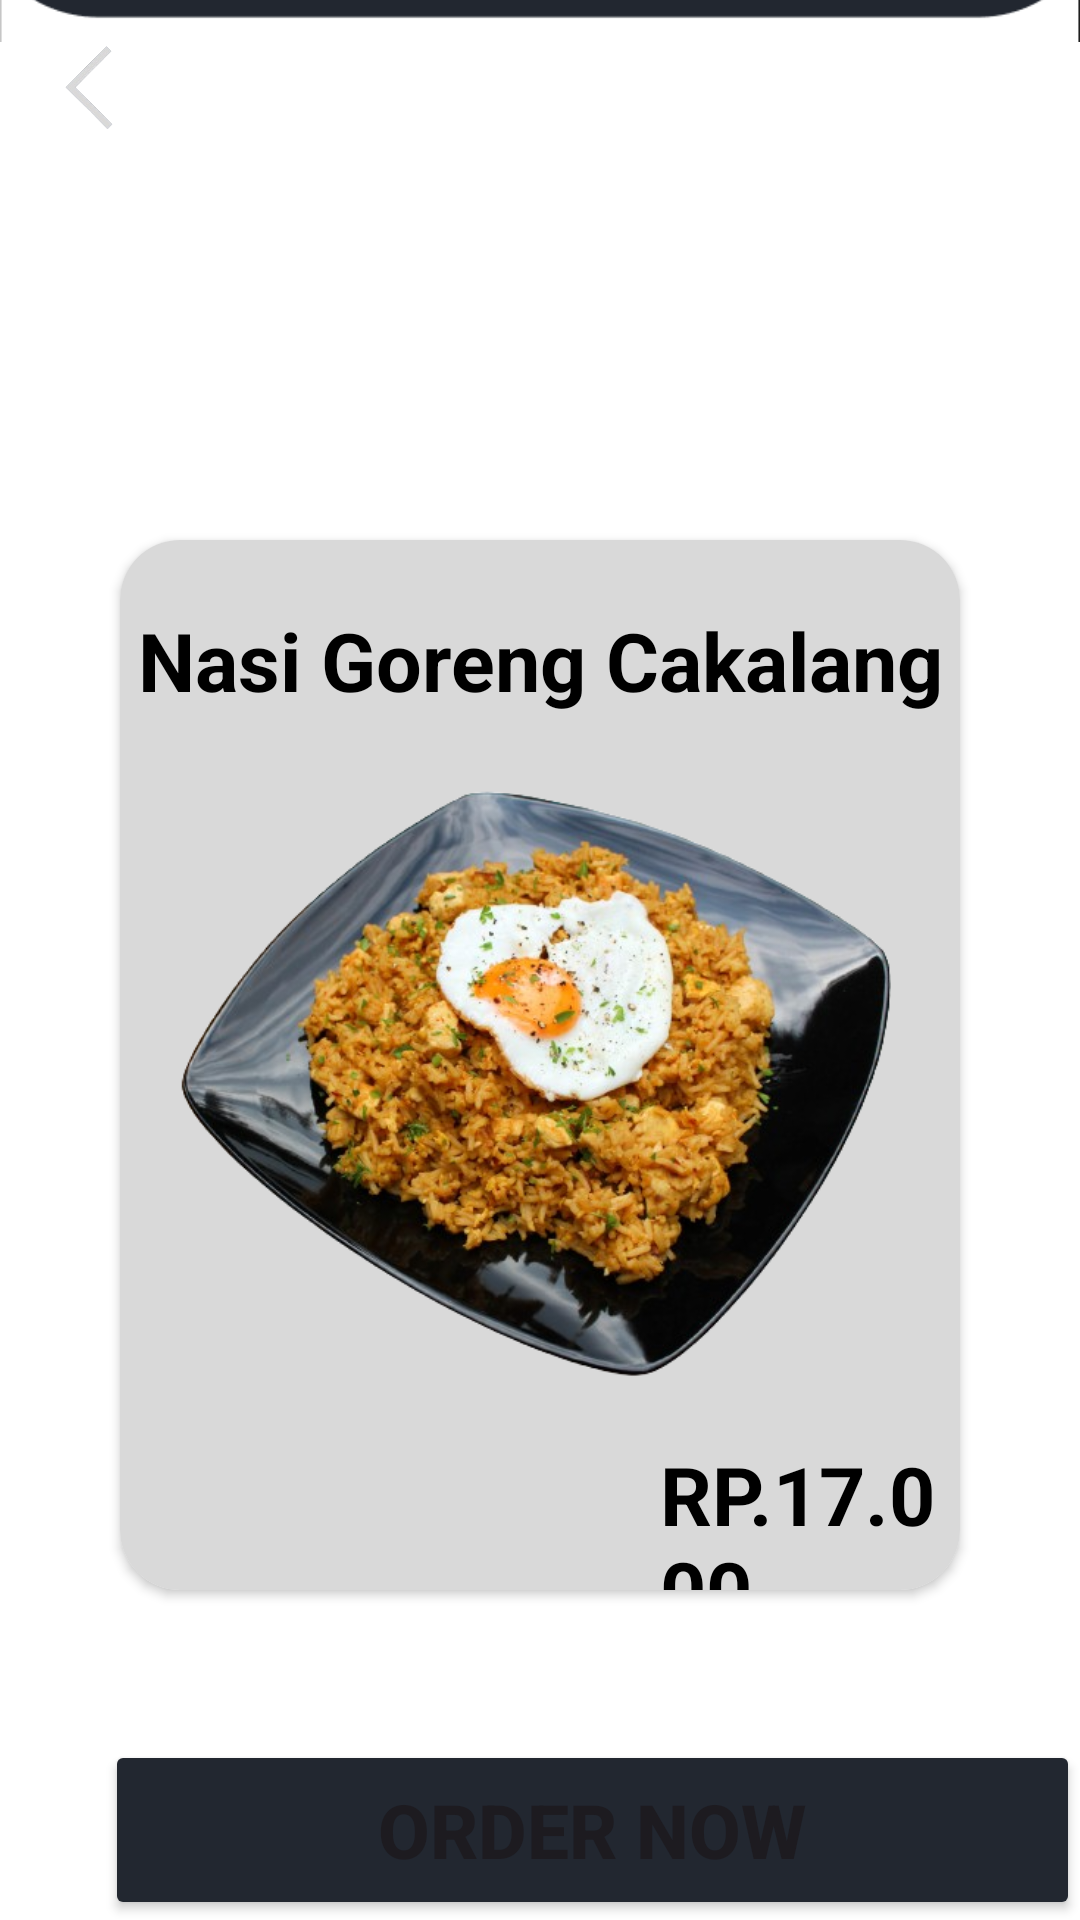

Named icons in this screenshot (1080px x 1920px) and their bounding boxes, (x1, y1, x2, y2):
back: (66, 46, 112, 129)
